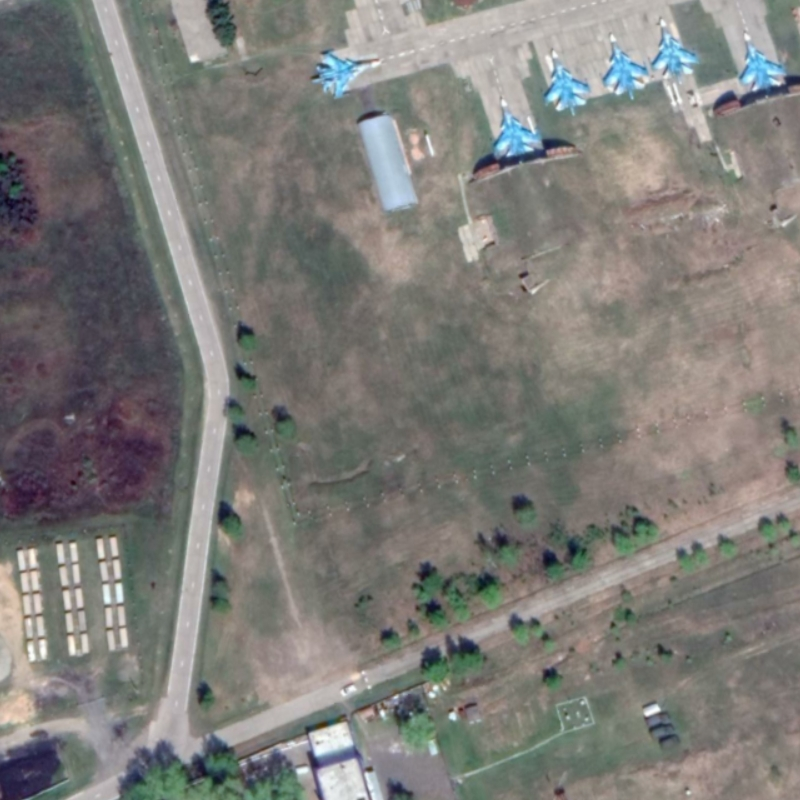A19: (304, 47, 385, 104), (540, 45, 595, 120), (736, 25, 791, 98), (599, 30, 650, 105), (491, 90, 543, 161), (651, 11, 703, 81)
